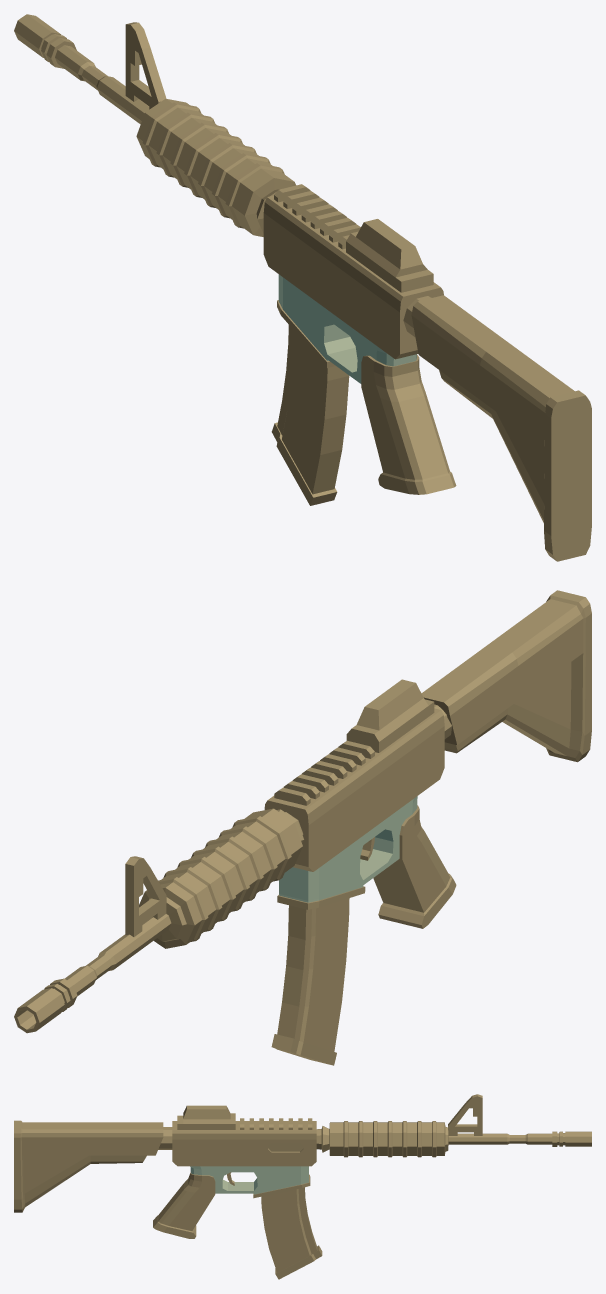
File: desert.glb
The picture shows the model from 3 angles, top to bottom: view 1: azimuth 30°, elevation 25°; view 2: azimuth 150°, elevation 25°; view 3: azimuth 270°, elevation 25°; orthographic projection. The views are drawn at different scales.
Visible parts, largest first — view 1: RIVALS-rifle; view 2: RIVALS-rifle; view 3: RIVALS-rifle.
Part boxes in pixels (x1,y1,x2,y2): RIVALS-rifle: [14, 14, 591, 561]; RIVALS-rifle: [14, 590, 591, 1065]; RIVALS-rifle: [14, 1094, 591, 1279].
Bounding box in the file's own units: 0.1776 × 0.918 × 2.65.
